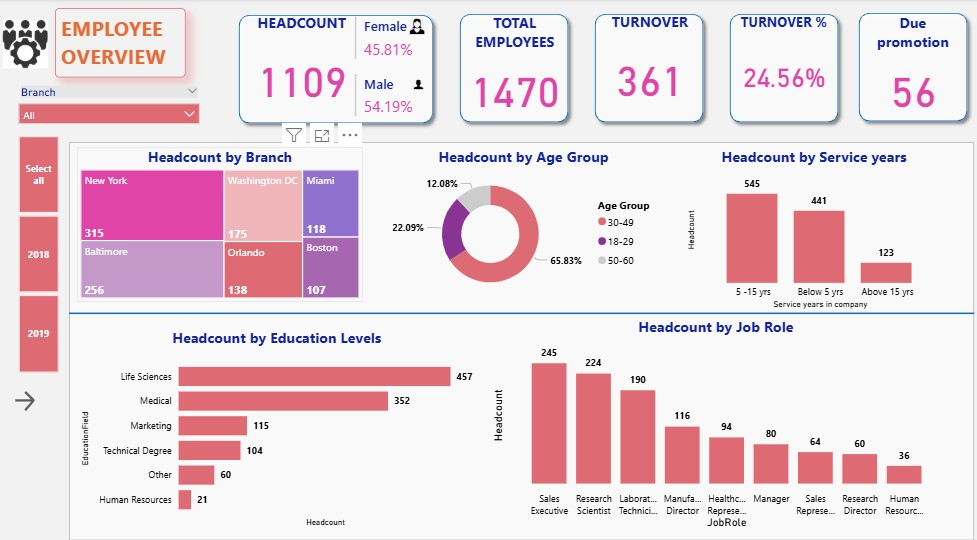

This screenshot's page, from the dashboard's own definition file:
{"tool":"powerbi","page":{"name":"Dashboard","canvas":[1280,720],"ordinal":0},"visuals":[{"type":"shape","box":[305.1,11.3,272,160],"z":0},{"type":"card","title":"HEADCOUNT","fields":{"Values":["Measure_table.Headcount"]},"box":[332.8,18.6,128,144],"z":1000},{"type":"shape","box":[771.4,9.9,160,160],"z":2000},{"type":"shape","box":[947.6,9.9,160,160],"z":3000},{"type":"shape","box":[1116.8,9.5,160,160],"z":4000},{"type":"shape","box":[594.7,9.9,160,160],"z":5000},{"type":"multiRowCard","fields":{"Values":["dEmployee_data.gender","Measure_table.Headcount"]},"box":[460.8,18.6,91.6,162.9],"z":6000},{"type":"card","title":"TOTAL EMPLOYEES","fields":{"Values":["Measure_table.v3 Total Emp count"]},"box":[610.7,18.6,128,144],"z":7000},{"type":"card","title":"TURNOVER","fields":{"Values":["Measure_table.v3 Leavers count"]},"box":[787.4,17.2,128,144],"z":8000},{"type":"card","title":"TURNOVER %","fields":{"Values":["Measure_table.% turnover"]},"box":[963.6,17.2,128,144],"z":9000},{"type":"card","title":"Due promotion","fields":{"Values":["Measure_table.Promotion due"]},"box":[1132.8,18.2,128,144],"z":10000},{"type":"shape","box":[92.1,187.1,1184.9,521.6],"z":11000},{"type":"treemap","title":"Headcount by Branch","fields":{"Group":["dEmployee_data.Branch"],"Values":["Measure_table.Headcount"]},"box":[102,194.2,374.2,202.7],"z":12000},{"type":"donutChart","title":"Headcount by Age Group","fields":{"Category":["dHR_Analytics.Age Group"],"Y":["Measure_table.Headcount"]},"box":[497.5,194.2,378.4,202.7],"z":13000},{"type":"columnChart","title":"Headcount by Service years","fields":{"Y":["Measure_table.Headcount"],"Category":["dHR_Analytics.Service years in company"]},"box":[895.7,194.2,343,216.9],"z":14000},{"type":"barChart","title":"Headcount by Education Levels","fields":{"Y":["Measure_table.Headcount"],"Category":["dEducation.EducationField"]},"box":[102,430.9,523,265],"z":15000},{"type":"columnChart","title":"Headcount by Job Role","fields":{"Category":["dHR_Analytics.JobRole"],"Y":["Measure_table.Headcount"]},"box":[640.6,416.7,596.7,282],"z":16000},{"type":"shape","box":[92.1,405.4,1184.9,11.3],"z":17000},{"type":"textbox","box":[73.7,11.3,171.5,90.7],"z":18000},{"type":"slicer","fields":{"Values":["dEmployee_data.Branch"]},"box":[15.6,109.1,256.5,63.8],"z":19000},{"type":"image","box":[0,2.8,69.4,113.4],"z":20000},{"type":"image","box":[532.9,21.3,29.8,29.8],"z":21000},{"type":"image","box":[535.7,96.4,26.9,29.8],"z":22000},{"type":"actionButton","box":[15.6,506,35.4,39.7],"z":32000},{"type":"slicer","fields":{"Values":["dcalendar.Year"]},"box":[0,172.6,101.8,322.5],"z":33000}]}

Visuals, with their boxes in screenshot pixels (x1, y1, x2, y2), scaled from the page's 1280x720 canvas onto the 977x540 screenshot:
shape: 233, 8, 440, 128
"HEADCOUNT" card: 254, 14, 352, 122
shape: 589, 7, 711, 127
shape: 723, 7, 845, 127
shape: 852, 7, 975, 127
shape: 454, 7, 576, 127
multiRowCard - dEmployee_data.gender x Measure_table.Headcount: 352, 14, 422, 136
"TOTAL EMPLOYEES" card: 466, 14, 564, 122
"TURNOVER" card: 601, 13, 699, 121
"TURNOVER %" card: 735, 13, 833, 121
"Due promotion" card: 865, 14, 962, 122
shape: 70, 140, 975, 532
"Headcount by Branch" treemap: 78, 146, 363, 298
"Headcount by Age Group" donutChart: 380, 146, 669, 298
"Headcount by Service years" columnChart: 684, 146, 945, 308
"Headcount by Education Levels" barChart: 78, 323, 477, 522
"Headcount by Job Role" columnChart: 489, 313, 944, 524
shape: 70, 304, 975, 313
textbox: 56, 8, 187, 76
slicer - dEmployee_data.Branch: 12, 82, 208, 130
image: 0, 2, 53, 87
image: 407, 16, 429, 38
image: 409, 72, 429, 95
actionButton: 12, 380, 39, 409
slicer - dcalendar.Year: 0, 129, 78, 371
